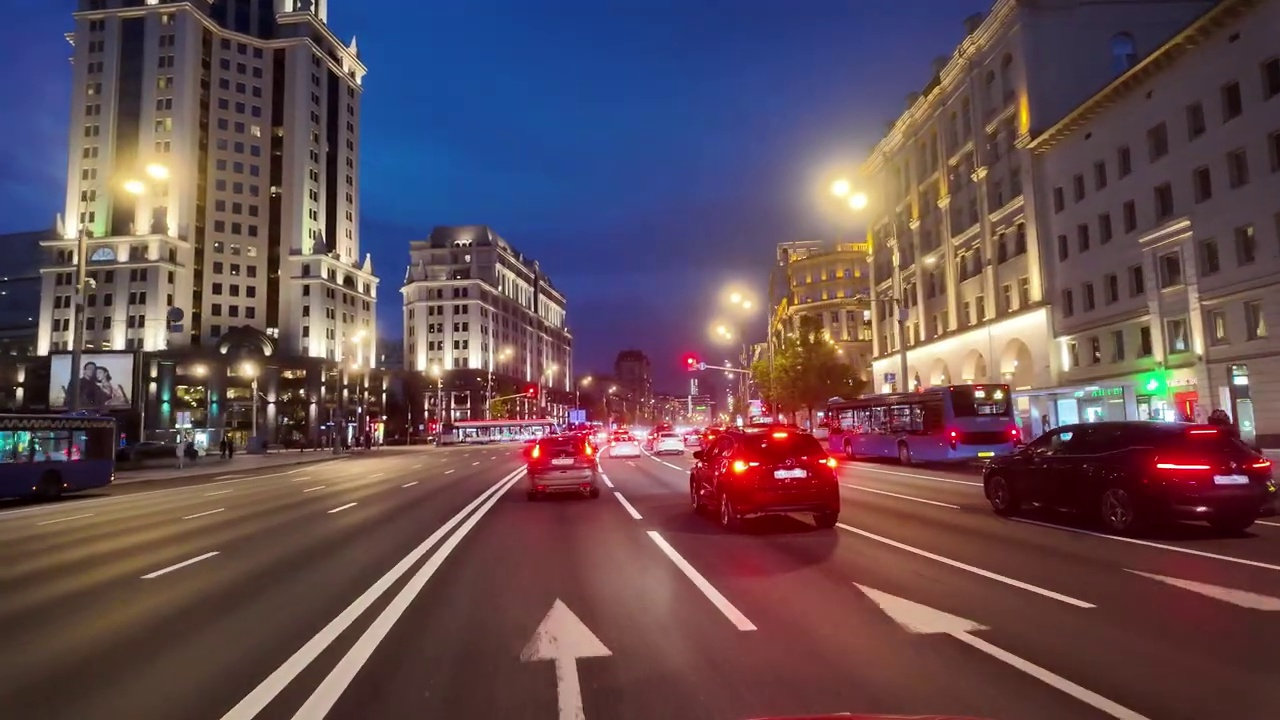acesa: (711, 284, 759, 343), (118, 162, 169, 203), (827, 175, 875, 217), (720, 284, 758, 315), (709, 319, 739, 346)
